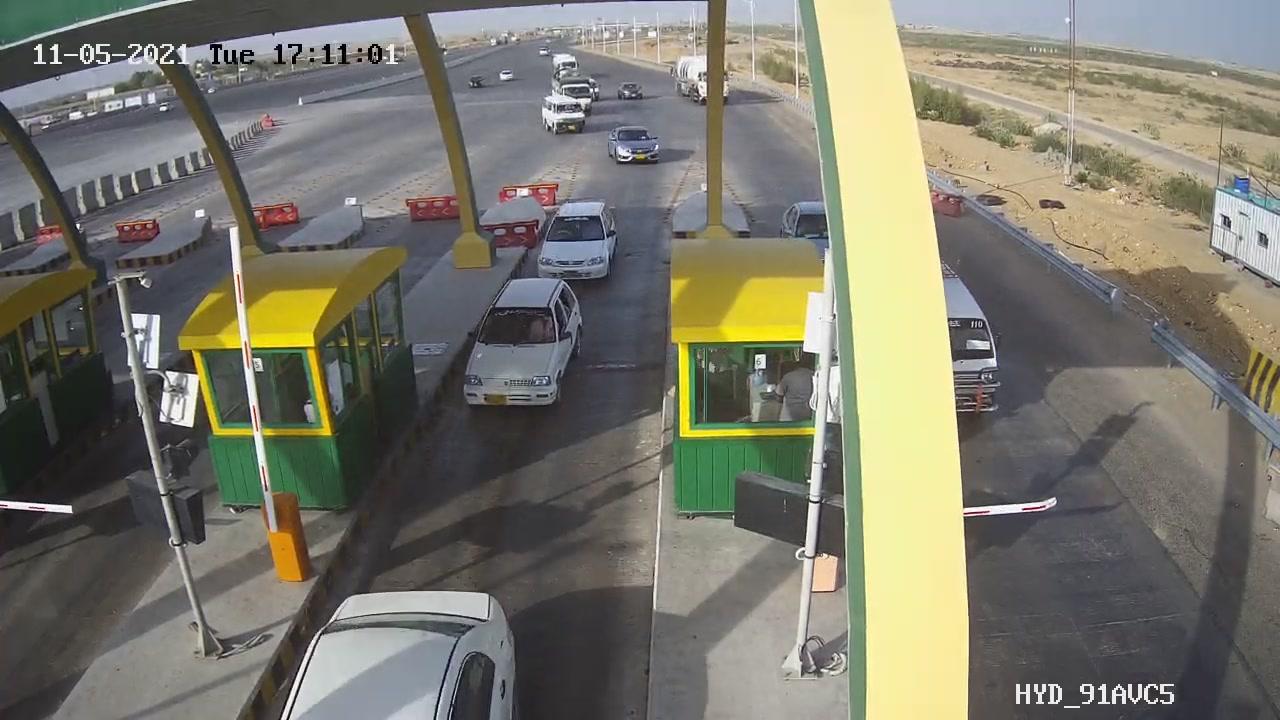F1: (448, 265, 599, 429), (521, 190, 626, 294)
